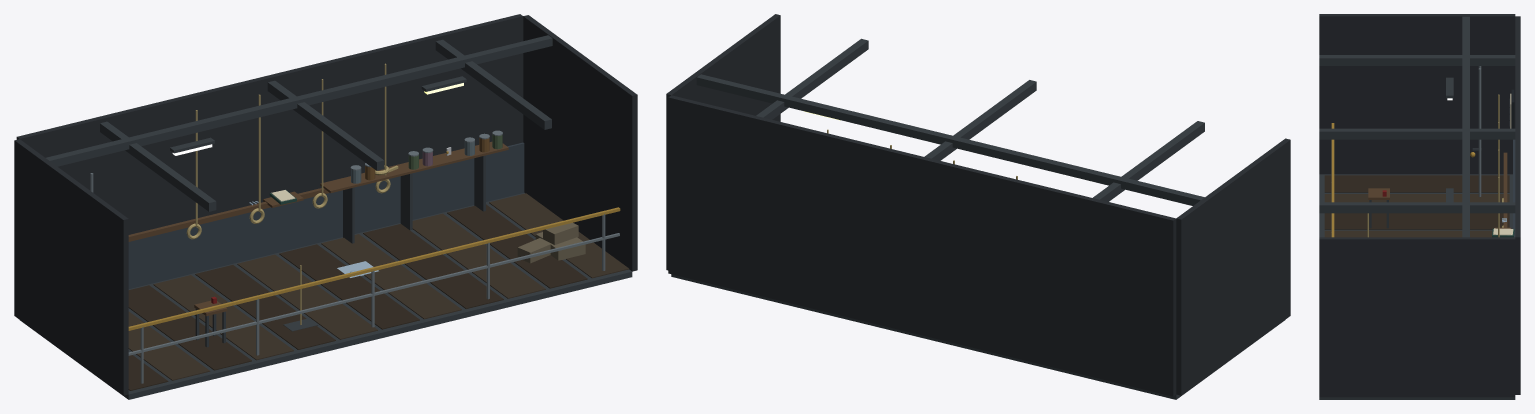
Rendered from flies.glb.
3 views of the same model, side by side, from view 1: azimuth 30°, elevation 25°; view 2: azimuth 150°, elevation 25°; view 3: azimuth 270°, elevation 25° (orthographic). The views are drawn at different scales.
Parts seen in each view (by area): view 1: WallBack, WallLeft, WallRight, BandBack, Floor, BeamRun, Grate5, Grate8, Grate9, Grate6, Grate7, Grate2 (+17 smaller); view 2: WallBack, WallLeft, BeamRun, WallRight, Floor, Beam2, Beam1, Beam0; view 3: WallRight, WallLeft, Grate0, Grate2, Beam1, Beam2, WallBack, Beam0, Floor, BeamRun, Grate1, Grate3 (+5 smaller).
Boxes of the visible parts, left/top/right/bottom form: WallBack: left=16, top=14, right=523, bottom=234; WallLeft: left=14, top=139, right=128, bottom=395; WallRight: left=523, top=15, right=637, bottom=271; BandBack: left=128, top=142, right=524, bottom=288; Floor: left=20, top=192, right=632, bottom=399; BeamRun: left=46, top=35, right=552, bottom=166; Grate5: left=237, top=254, right=377, bottom=339; Grate8: left=363, top=224, right=503, bottom=308; Grate9: left=412, top=213, right=545, bottom=298; Grate6: left=279, top=244, right=419, bottom=329; Grate7: left=321, top=234, right=461, bottom=319; Grate2: left=128, top=285, right=251, bottom=370; WallBack: left=668, top=95, right=1176, bottom=396; WallLeft: left=1176, top=138, right=1290, bottom=395; BeamRun: left=696, top=74, right=1204, bottom=205; WallRight: left=666, top=14, right=780, bottom=270; Floor: left=671, top=274, right=1284, bottom=399; Beam2: left=756, top=38, right=868, bottom=119; Beam1: left=924, top=80, right=1036, bottom=160; Beam0: left=1093, top=121, right=1204, bottom=201; WallRight: left=1319, top=237, right=1515, bottom=397; WallLeft: left=1319, top=14, right=1515, bottom=174; Grate0: left=1324, top=175, right=1509, bottom=192; Grate2: left=1324, top=213, right=1509, bottom=229; Beam1: left=1319, top=128, right=1515, bottom=139; Beam2: left=1319, top=202, right=1515, bottom=213; WallBack: left=1515, top=16, right=1520, bottom=394; Beam0: left=1319, top=55, right=1515, bottom=65; Floor: left=1319, top=174, right=1515, bottom=399; BeamRun: left=1462, top=16, right=1469, bottom=237; Grate1: left=1324, top=194, right=1509, bottom=202; Grate3: left=1324, top=230, right=1492, bottom=237.
Size of the model in its own units: 9.8 by 3.3 by 3.7.
